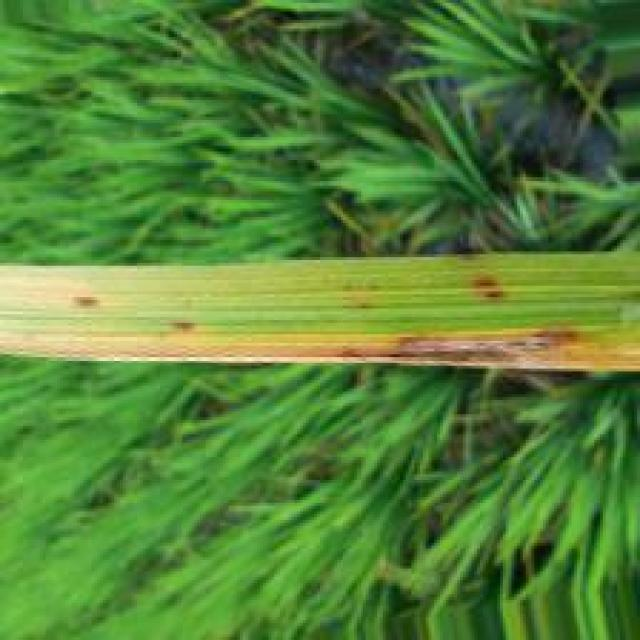Bacterial_Leaf_Blight: (0, 263, 640, 378), (467, 273, 515, 311)
